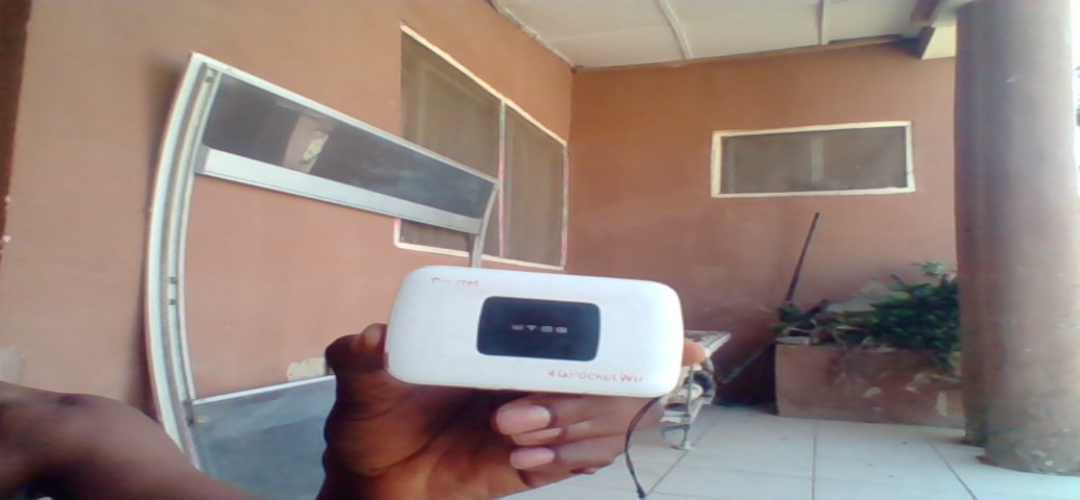mifi: (386, 262, 683, 401)
